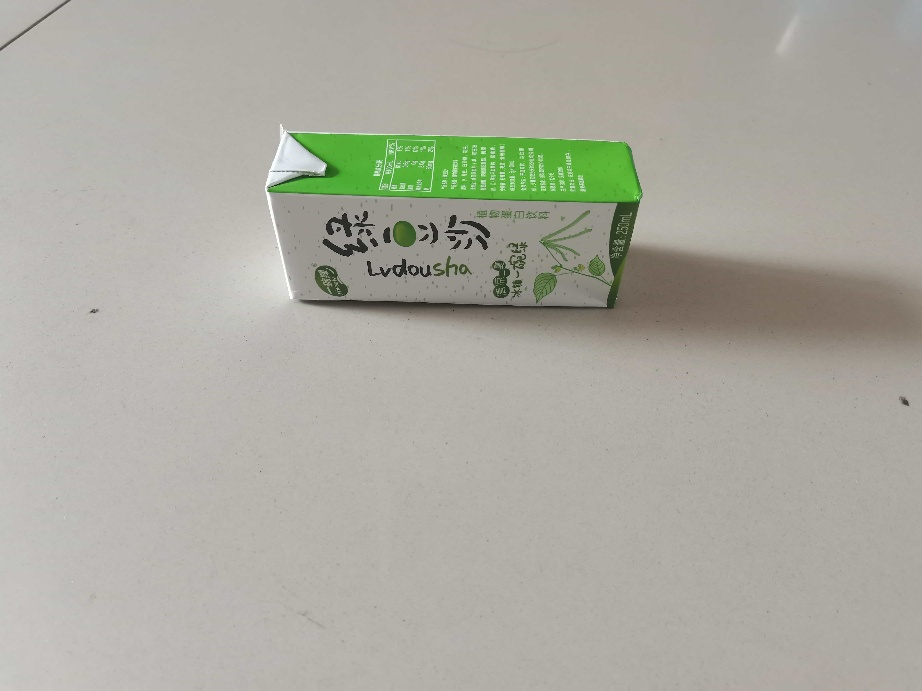milk box: (257, 117, 648, 318)
